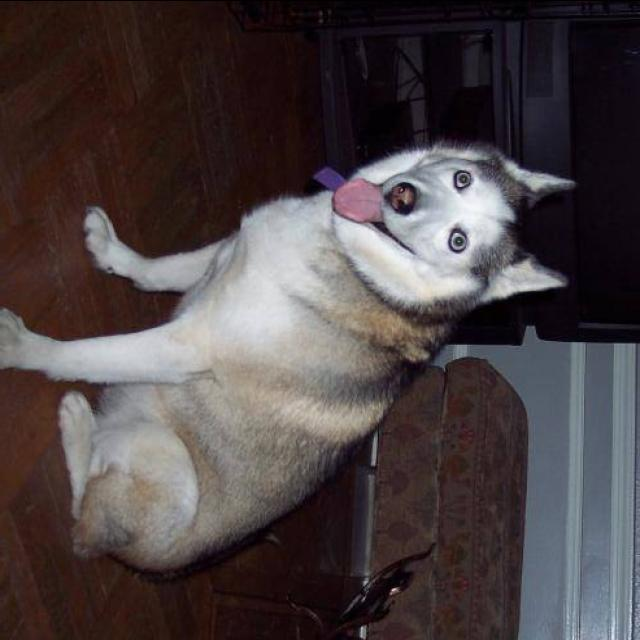dog: (0, 137, 578, 581)
